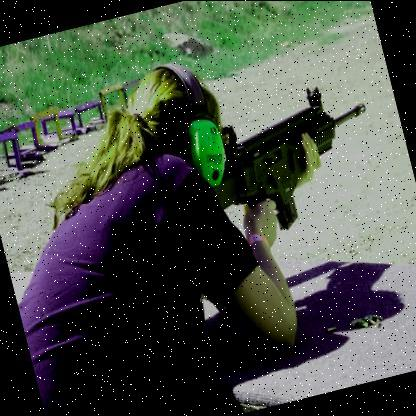rifle: (161, 52, 402, 260)
